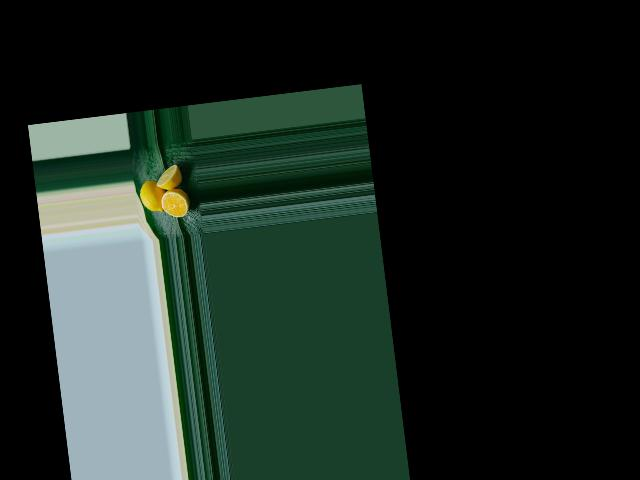lemon: (138, 178, 169, 219)
